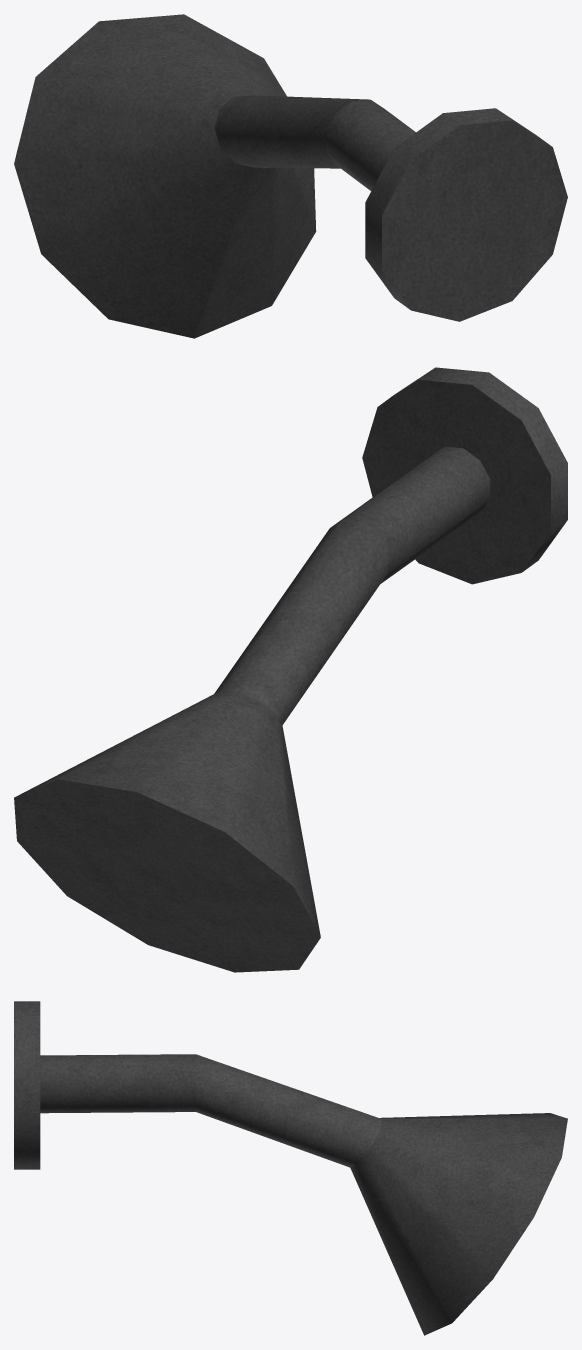
Rendered from shower-head.FBX.
3 renders of one model, top to bottom at view 1: azimuth 30°, elevation 25°; view 2: azimuth 150°, elevation 25°; view 3: azimuth 270°, elevation 25°, orthographic. The views are drawn at different scales.
Parts seen in each view (by area): view 1: Shower-head; view 2: Shower-head; view 3: Shower-head.
Boxes of the visible parts, x1,y1,x2,y2 form: Shower-head: [14, 14, 567, 338]; Shower-head: [14, 367, 567, 972]; Shower-head: [14, 1001, 567, 1335].
Size of the model in its own units: 4.75 by 6.36 by 10.18.
1 material, 1 textured.
